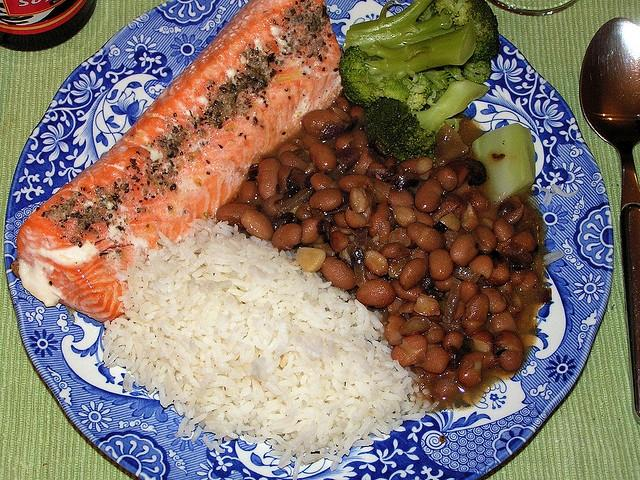broccoli: (342, 0, 501, 84), (339, 20, 477, 107), (365, 80, 490, 163), (472, 123, 536, 206), (422, 68, 457, 89)
